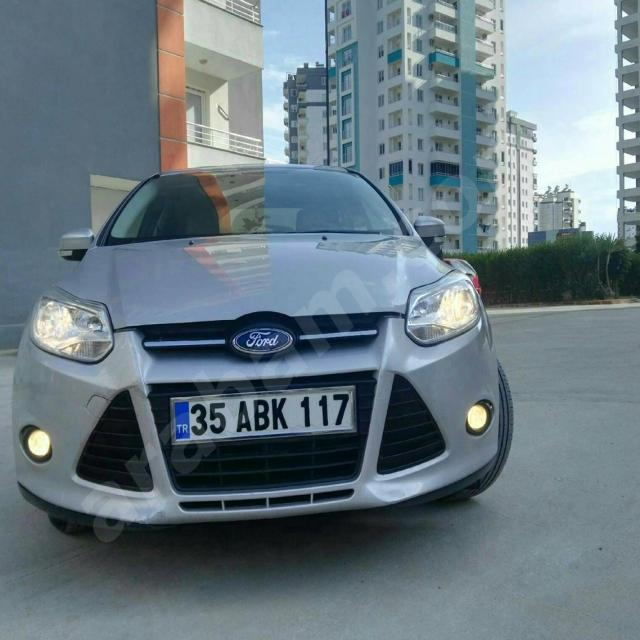license_plate: (172, 386, 354, 442)
